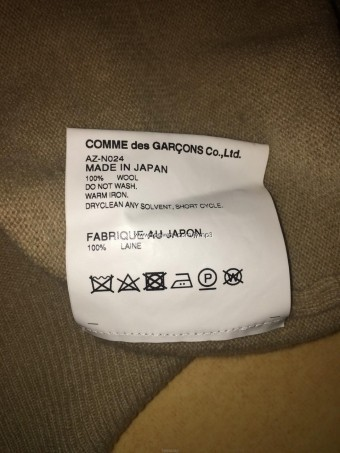ER_dry_clean_chemical_mild: (196, 266, 219, 291)
ER_iron_medium_temp: (170, 269, 193, 292)
ER_no_bleach: (115, 272, 142, 295)
ER_no_tumble_dry: (144, 268, 168, 293)
ER_no_wash: (89, 271, 114, 296)
ER_no_wet_clean: (222, 267, 244, 287)
